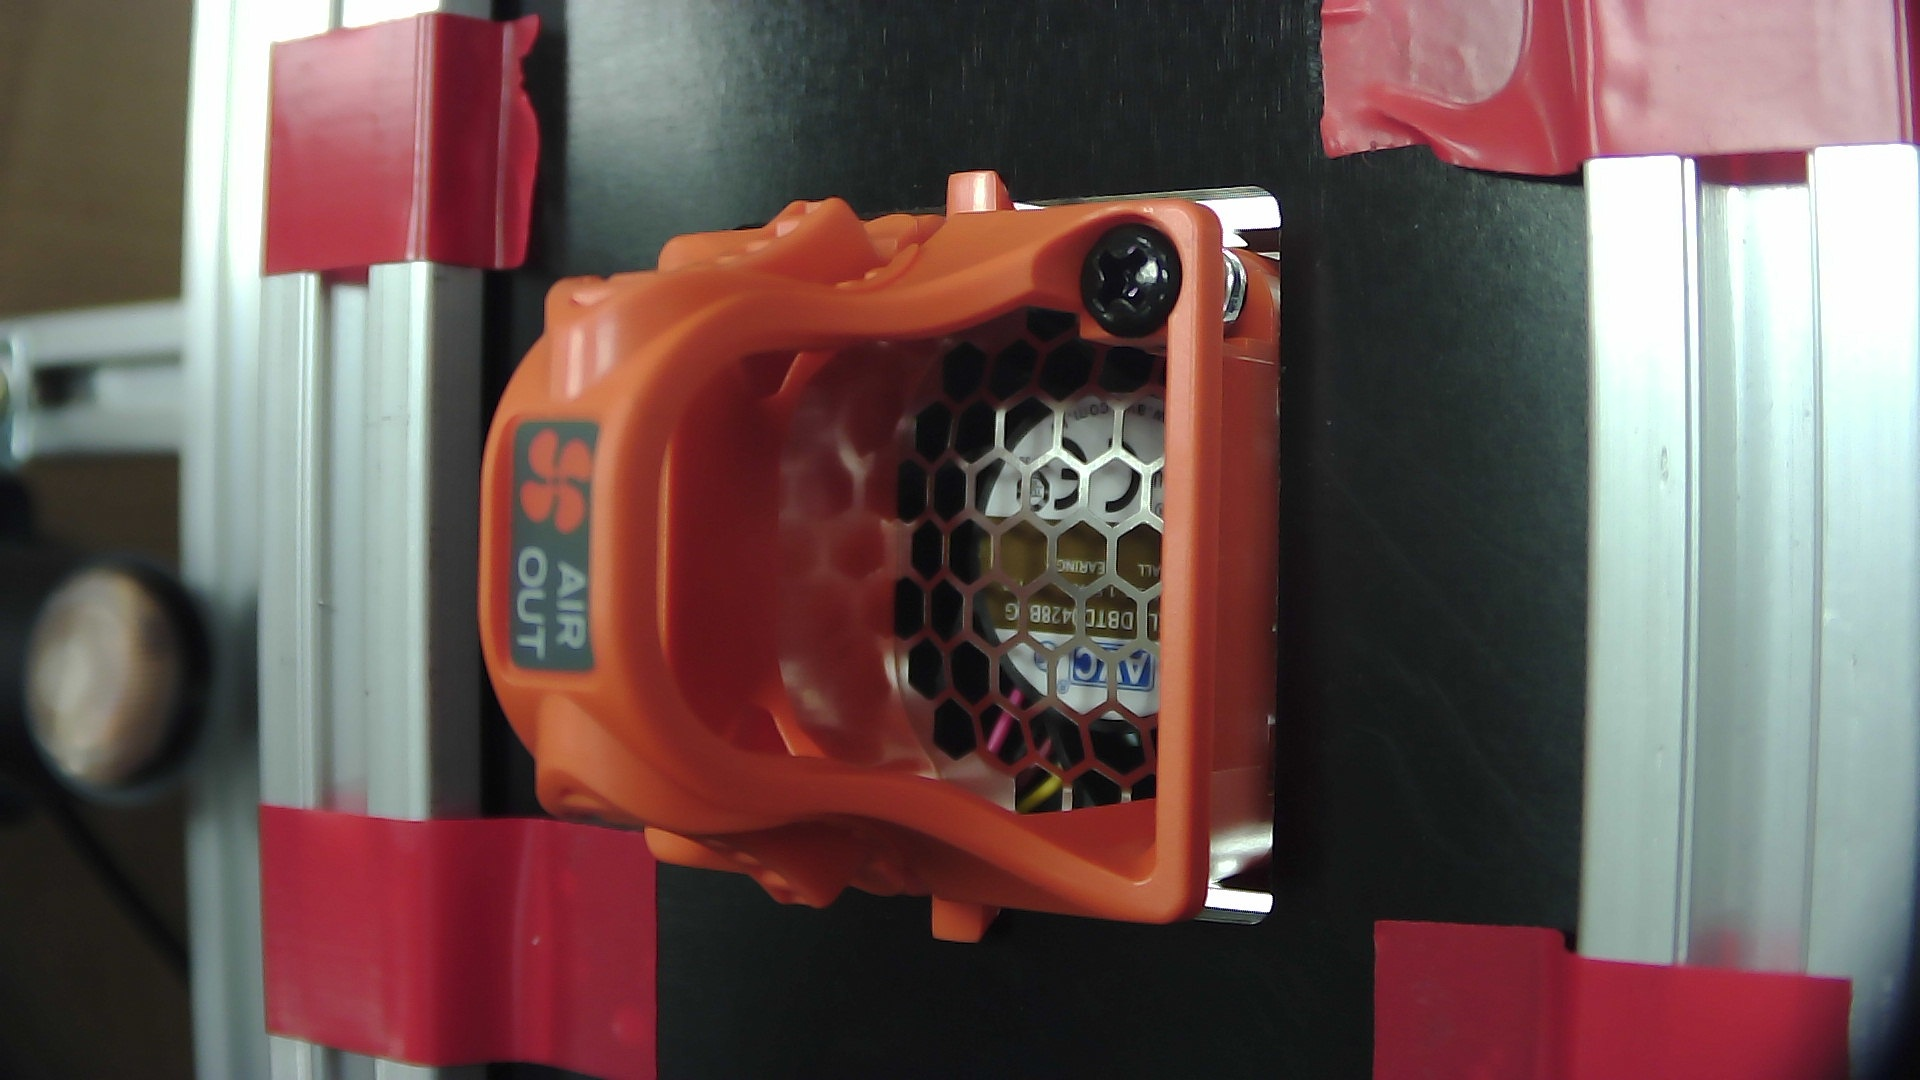3_0: (439, 131, 1323, 973)
